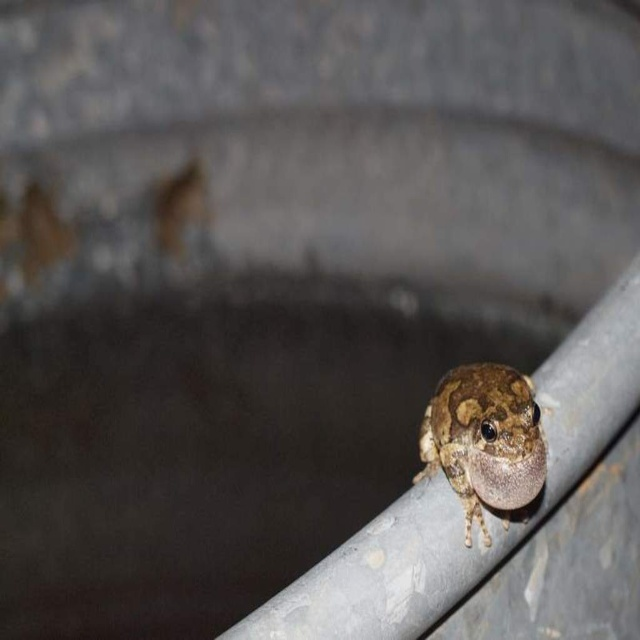Frog: (409, 365, 554, 549)
